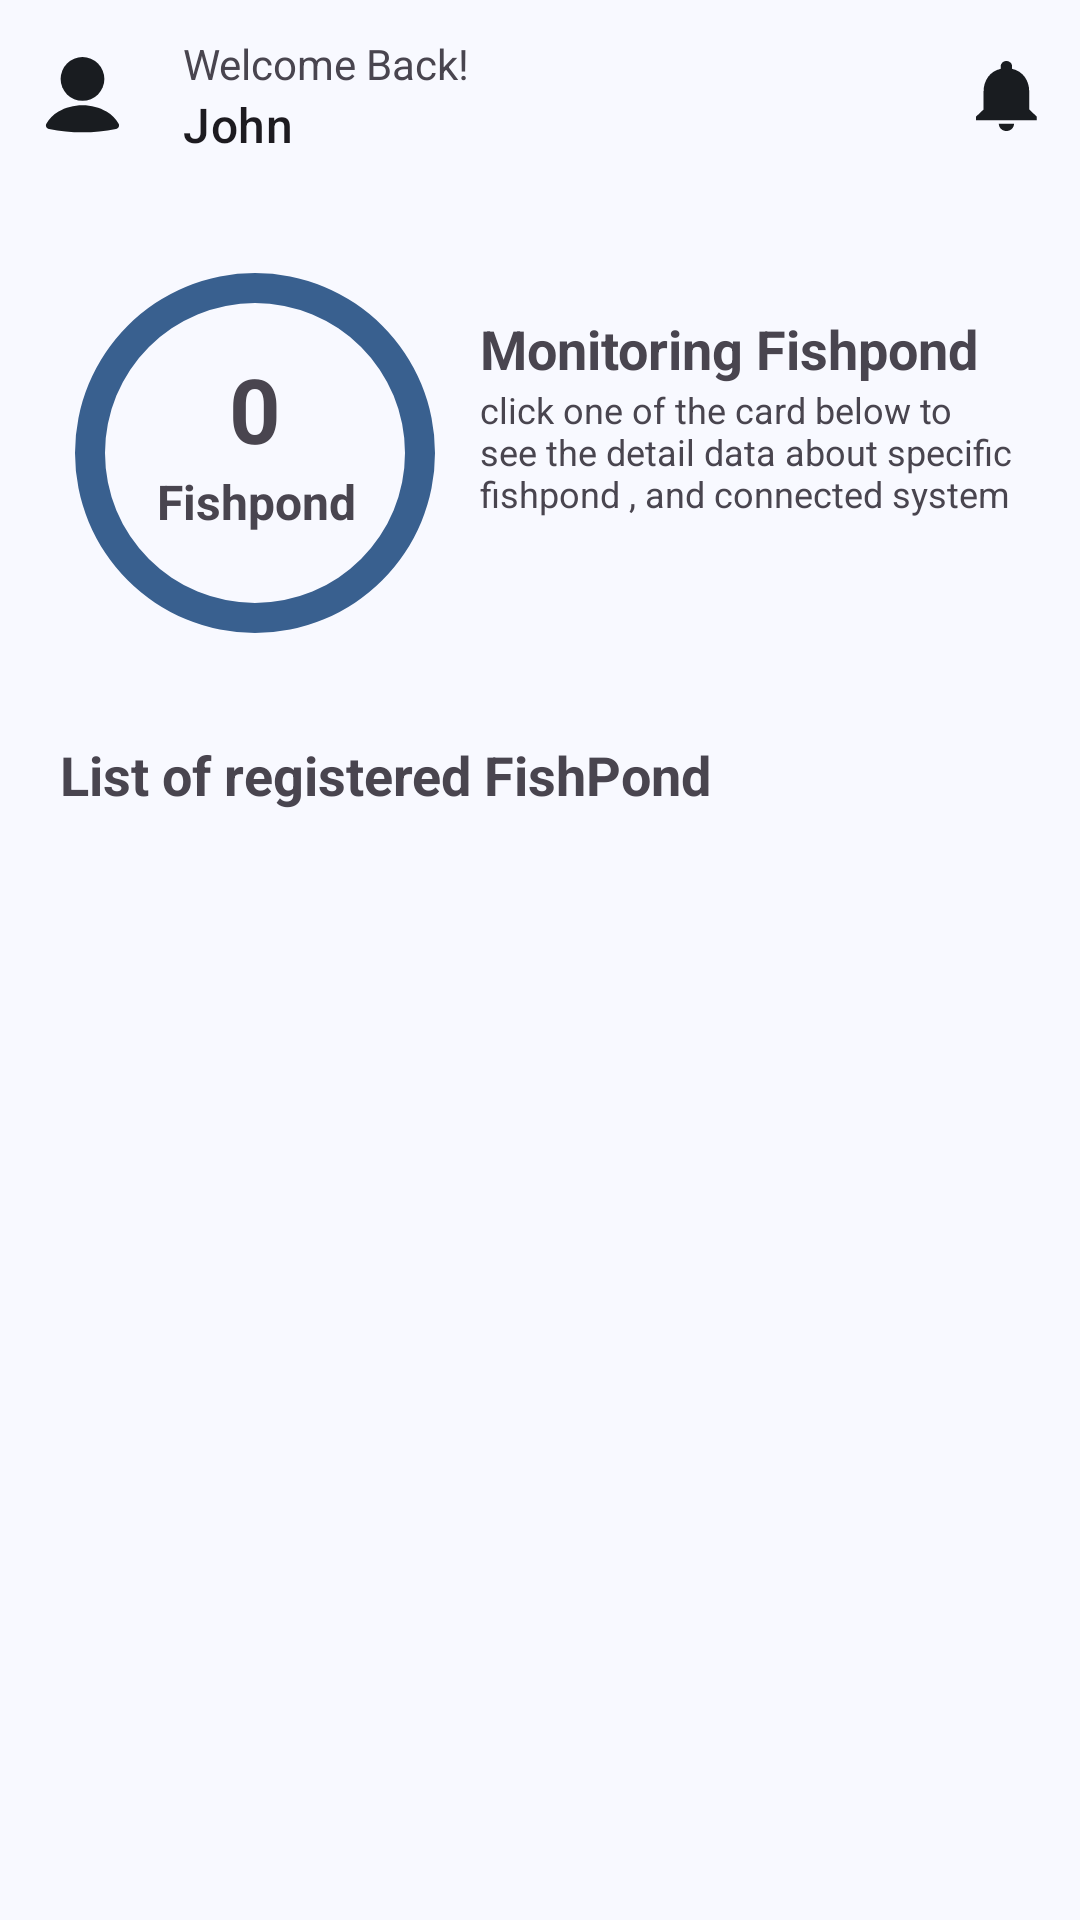

Icon click points for this 1080 x 1920 phone screenshot, format (x,y):
user: (82,95)
